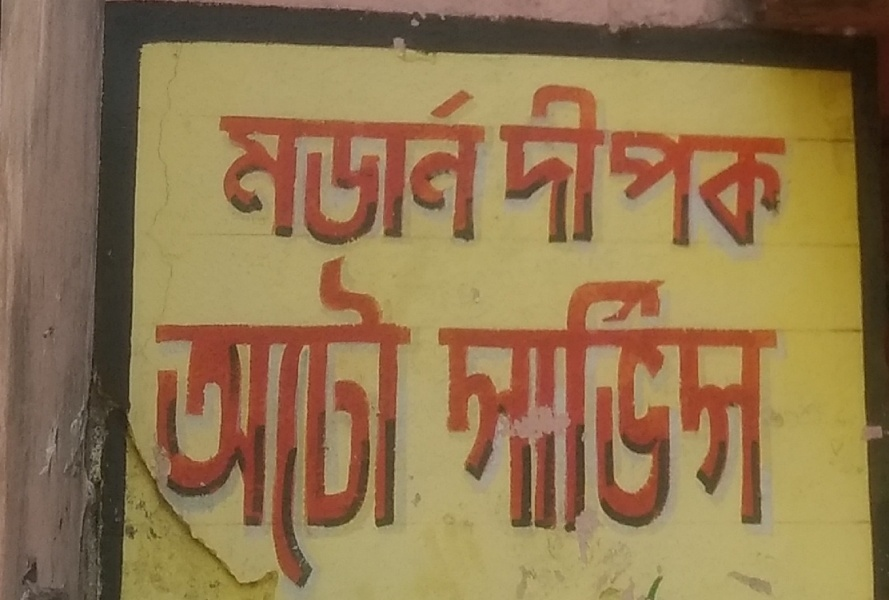text: (161, 252, 176, 594), (177, 252, 192, 594), (193, 252, 208, 594), (209, 252, 224, 594), (225, 252, 240, 594), (241, 252, 256, 594), (257, 252, 272, 594), (273, 252, 288, 594), (289, 252, 304, 594), (305, 252, 320, 594), (321, 252, 336, 594), (337, 252, 352, 594), (353, 252, 368, 594), (369, 252, 384, 594), (385, 252, 400, 594), (401, 252, 416, 594), (146, 252, 160, 594), (433, 269, 448, 535), (449, 269, 464, 535), (465, 269, 480, 535), (481, 269, 496, 535), (497, 269, 512, 535), (513, 269, 528, 535), (529, 269, 544, 535), (545, 269, 560, 535), (561, 269, 576, 535), (577, 269, 592, 535), (593, 269, 608, 535), (609, 269, 624, 535), (625, 269, 640, 535), (641, 269, 656, 535), (657, 269, 672, 535), (673, 269, 688, 535), (689, 269, 704, 535), (705, 269, 720, 535), (721, 269, 736, 535), (737, 269, 752, 535), (753, 269, 768, 535), (769, 269, 784, 535), (513, 80, 528, 265), (529, 80, 544, 265), (545, 80, 560, 265), (561, 80, 576, 265), (577, 80, 592, 265), (593, 80, 608, 265), (609, 80, 624, 265), (625, 80, 640, 265), (641, 80, 656, 265), (657, 80, 672, 265), (673, 80, 688, 265), (689, 80, 704, 265), (705, 80, 720, 265), (721, 80, 736, 265), (737, 80, 752, 265), (753, 80, 768, 265), (769, 80, 784, 265), (225, 76, 240, 255), (241, 76, 256, 255), (257, 76, 272, 255), (273, 76, 288, 255), (289, 76, 304, 255), (305, 76, 320, 255), (321, 76, 336, 255), (337, 76, 352, 255), (353, 76, 368, 255), (369, 76, 384, 255), (385, 76, 400, 255), (401, 76, 416, 255), (417, 76, 432, 255), (433, 76, 448, 255), (449, 76, 464, 255), (465, 76, 480, 255), (498, 80, 512, 265), (785, 80, 796, 265), (481, 76, 492, 255), (427, 269, 432, 535), (785, 269, 790, 535), (417, 252, 419, 594), (223, 76, 224, 255)
